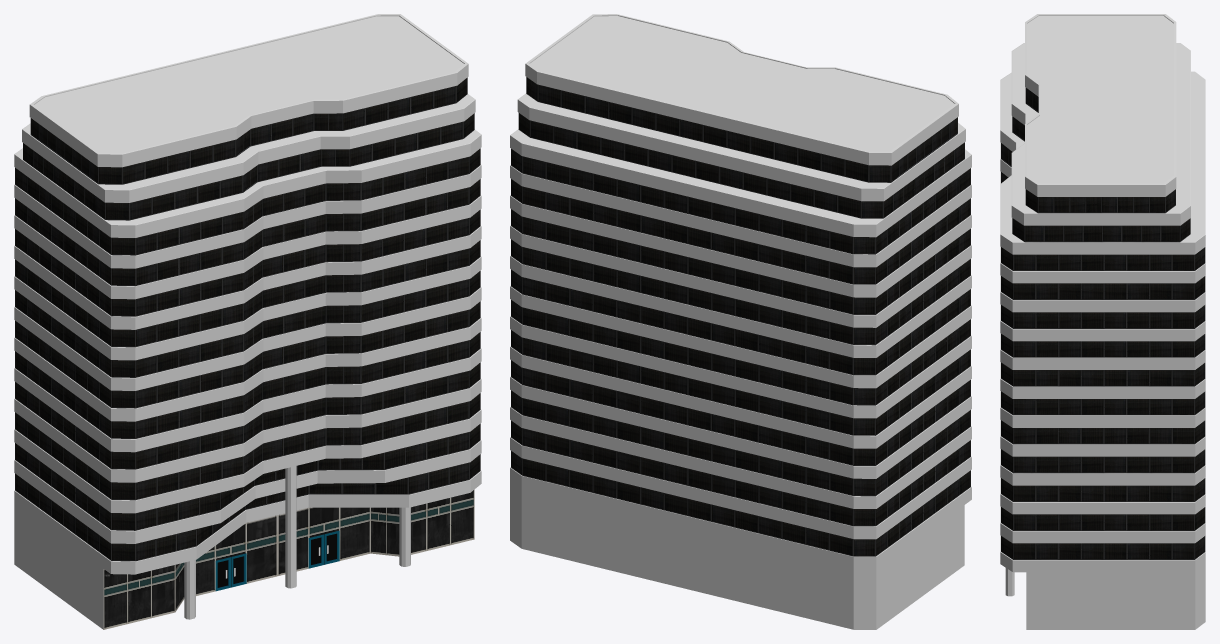
3 views of the same model, side by side, from view 1: azimuth 30°, elevation 25°; view 2: azimuth 150°, elevation 25°; view 3: azimuth 270°, elevation 25° (orthographic). The views are drawn at different scales.
Visible parts, largest first — view 1: BC-009; view 2: BC-009; view 3: BC-009.
Part boxes in pixels (x1=…): BC-009: x1=14, y1=14, x2=481, y2=629; BC-009: x1=510, y1=14, x2=971, y2=629; BC-009: x1=1000, y1=14, x2=1205, y2=629.
Size of what is drawn, in the model's own units: 38.07 by 46.25 by 19.35.
